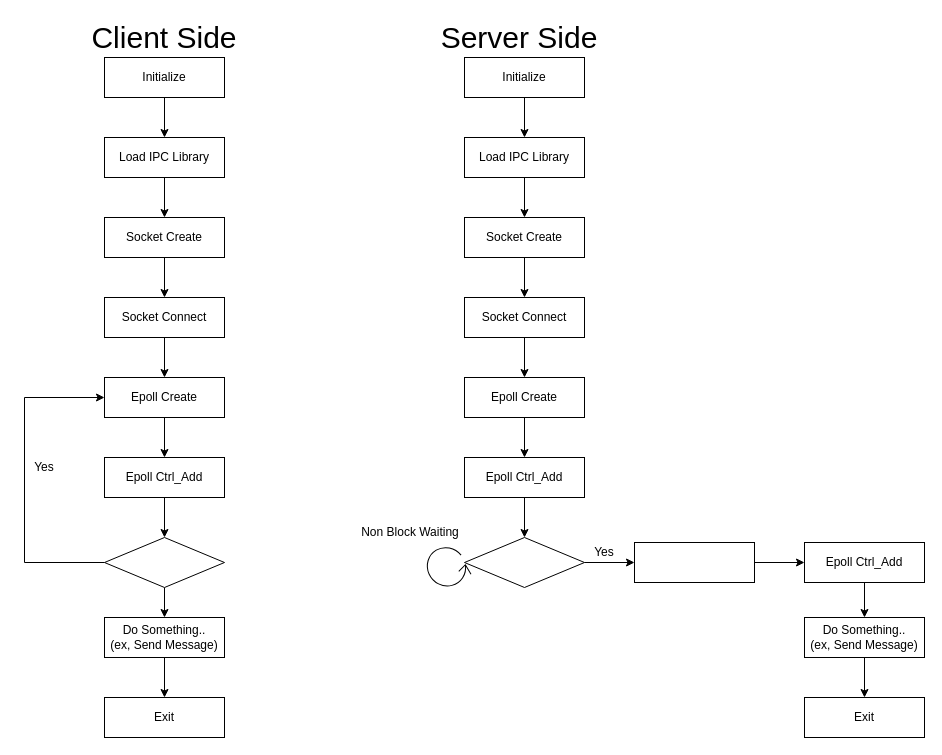
Image size: 942x755. Some labels were removed from this diagram. The centre of each missing label's shape, as x and y in pixels:
Accept?: (x=524, y=562)
Add Client Info: (x=694, y=562)
Disconnect or Error ?: (x=164, y=562)
